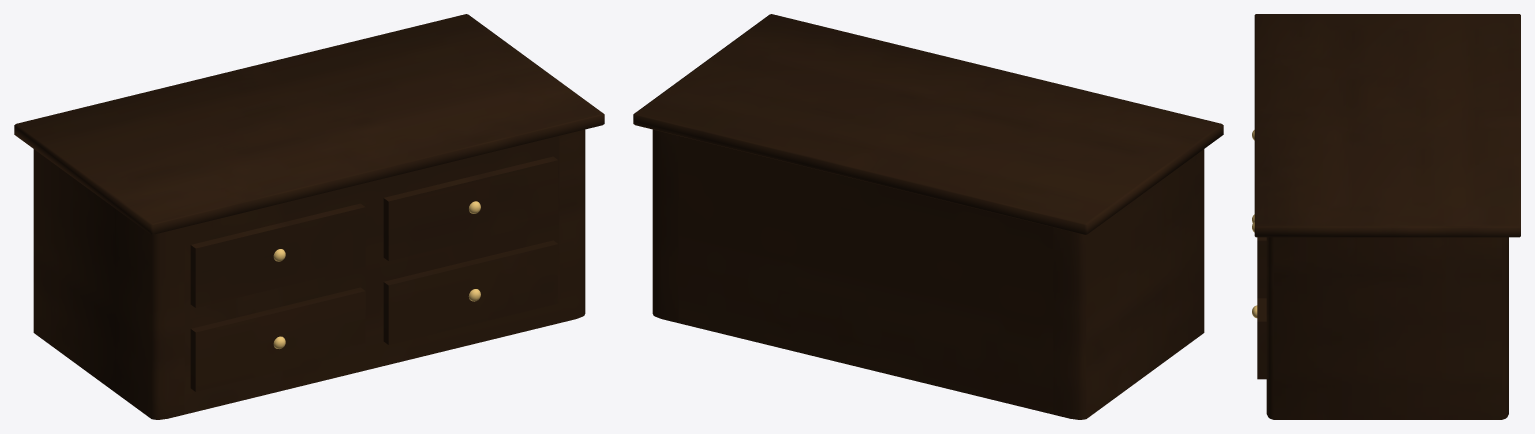
The model's file is Drawer.fbx.
The picture shows the model from 3 angles, left to right: view 1: azimuth 30°, elevation 25°; view 2: azimuth 150°, elevation 25°; view 3: azimuth 270°, elevation 25°; orthographic projection. The views are drawn at different scales.
Visible parts, largest first — view 1: Cube.018, Cube.019; view 2: Cube.018, Cube.019; view 3: Cube.019, Cube.018.
Part boxes in pixels (x1,y1,x2,y2): Cube.018: (33, 129, 585, 419); Cube.019: (14, 14, 604, 234); Cube.018: (652, 129, 1204, 419); Cube.019: (633, 14, 1223, 234); Cube.019: (1254, 14, 1520, 237); Cube.018: (1257, 237, 1508, 419).
Size of the model in its own units: 419 by 180 by 222.
